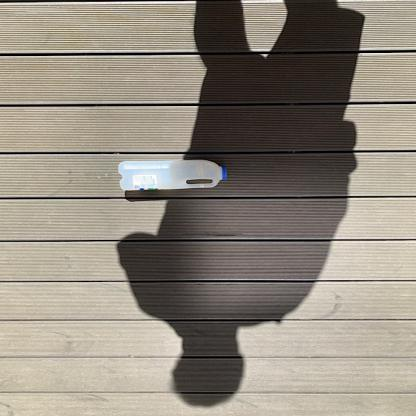trash: (118, 160, 228, 190)
